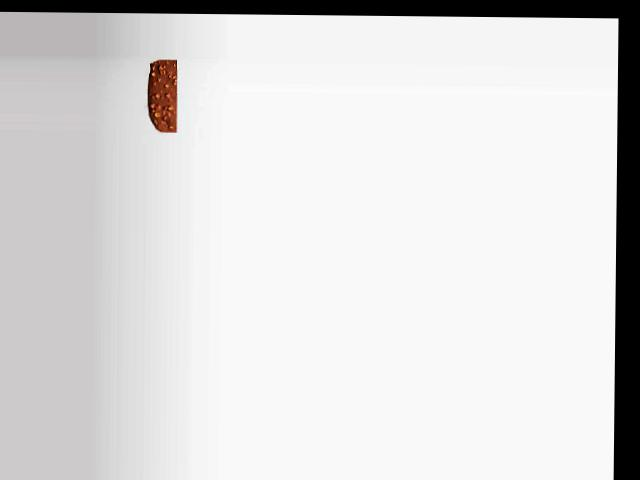chocolate: (141, 59, 180, 132)
